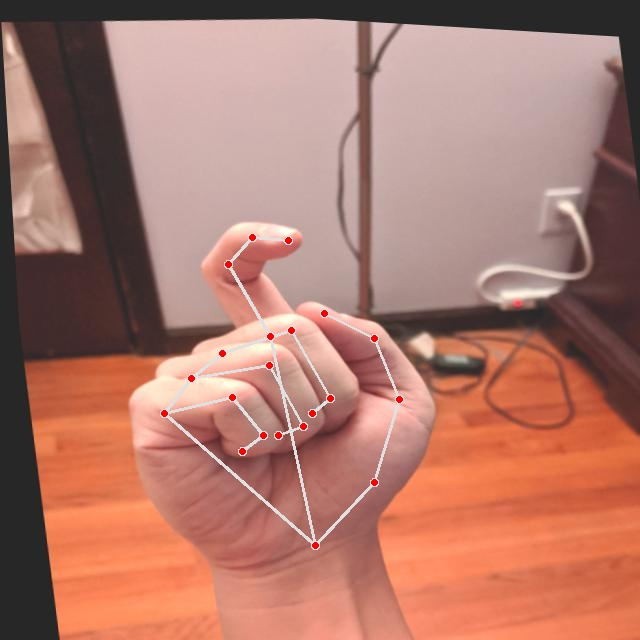X: (87, 192, 466, 593)
